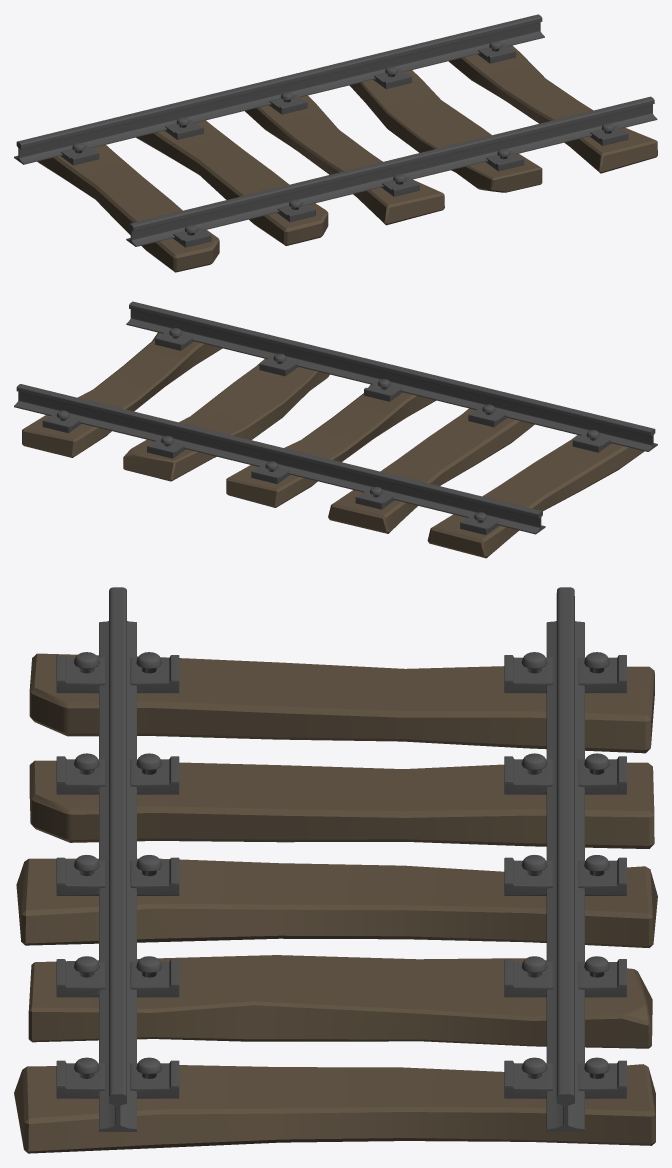
Rendered from SM_railA_v2.fbx.
The picture shows the model from 3 angles, top to bottom: view 1: azimuth 30°, elevation 25°; view 2: azimuth 150°, elevation 25°; view 3: azimuth 270°, elevation 25°; orthographic projection. The views are drawn at different scales.
Visible parts, largest first — view 1: SM_railA; view 2: SM_railA; view 3: SM_railA.
Part boxes in pixels (left/top/right/bottom): SM_railA: left=14, top=14, right=657, bottom=272; SM_railA: left=14, top=301, right=657, bottom=558; SM_railA: left=14, top=587, right=657, bottom=1153.
Size of the model in its own units: 8.66 by 0.6459 by 4.65.
